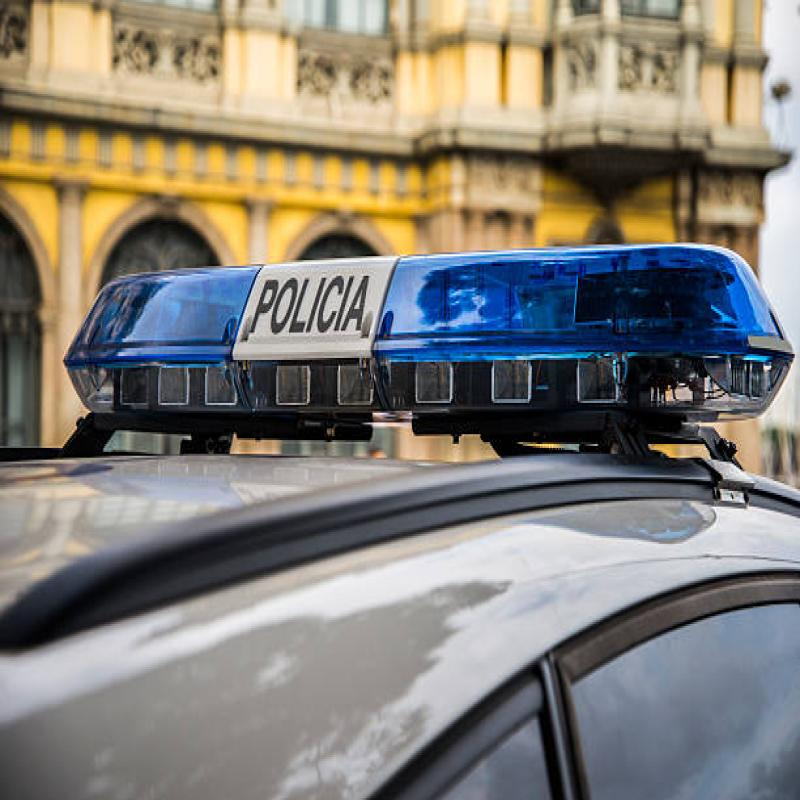AmbulanceSiren: (44, 176, 800, 468)
